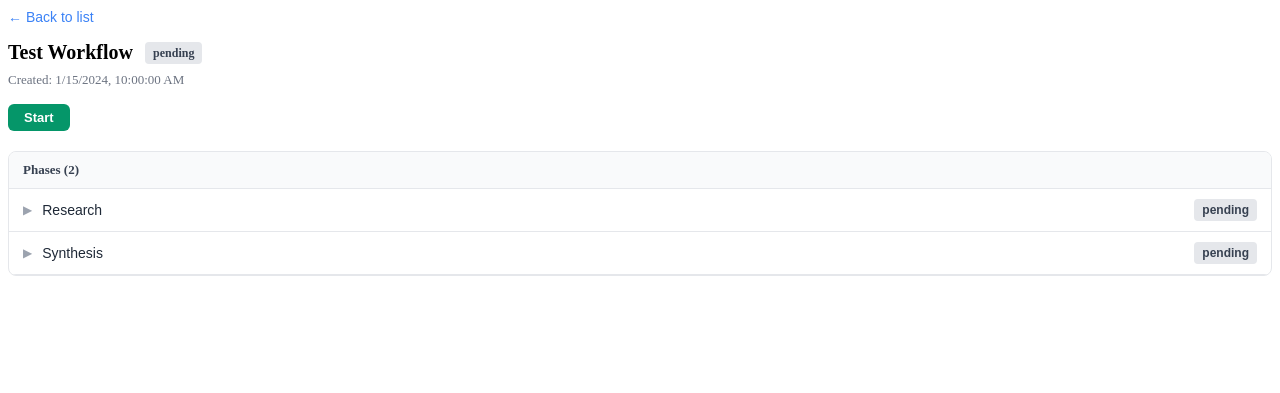
Scenario: WorkflowDetail › shows agent error when expanded
Click the text "Synthesis" at (73, 253), box [42,245,103,261]
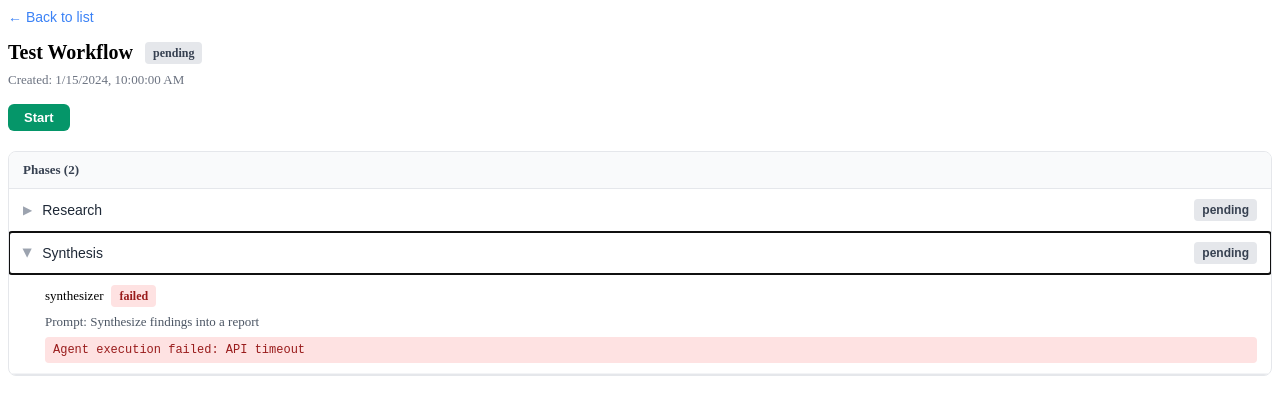
Check: the text "Agent execution failed: API timeout" is shown, box [45,337,1257,363]
